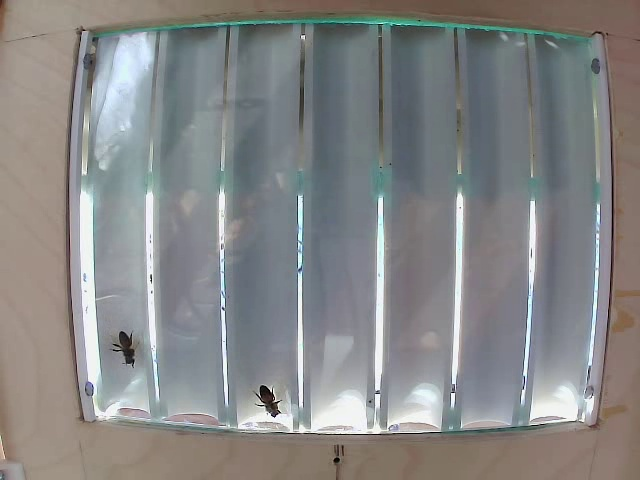bee: (250, 380, 283, 431), (107, 326, 137, 375)
